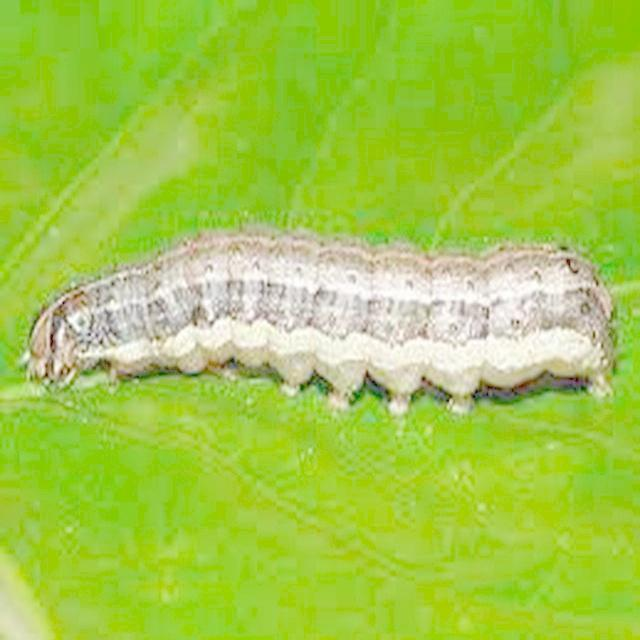gusano_cogollero: (23, 226, 625, 412)
